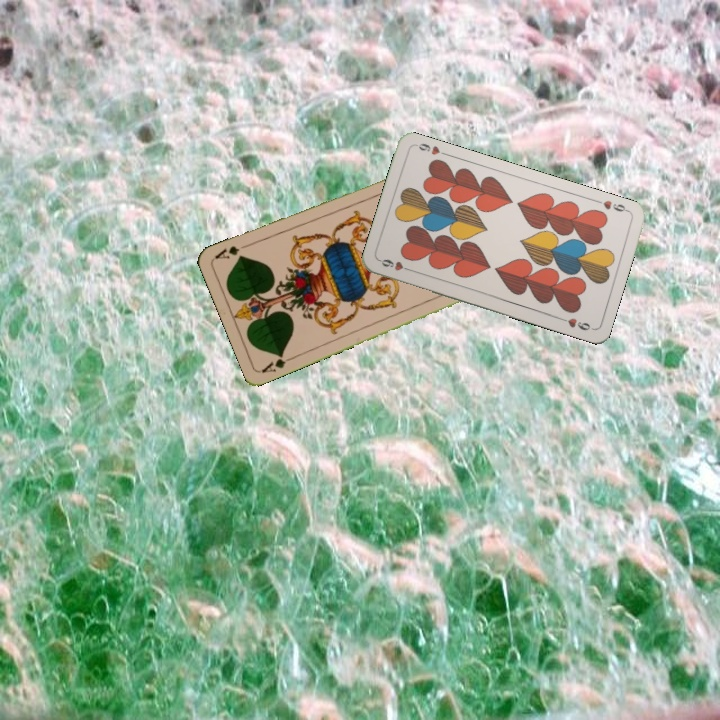GA: (258, 350, 297, 376)
H9: (376, 255, 415, 274), (599, 196, 631, 215)
